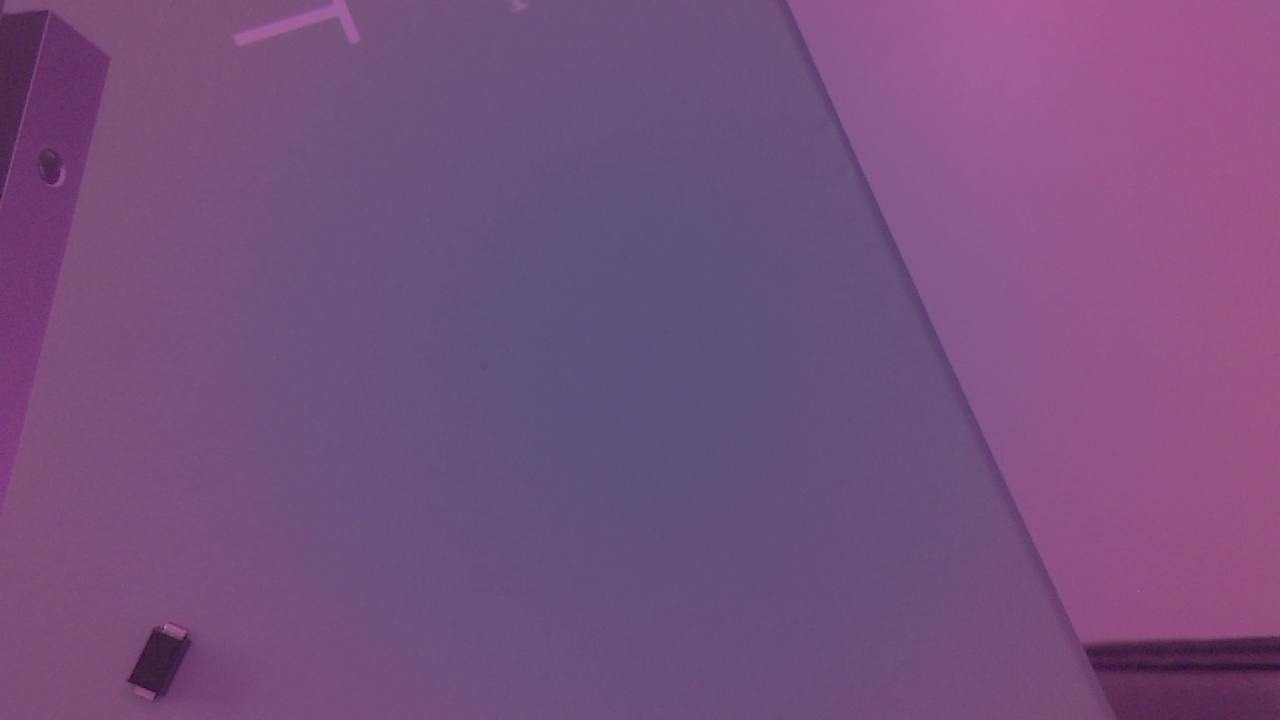Diode: (128, 620, 198, 709)
